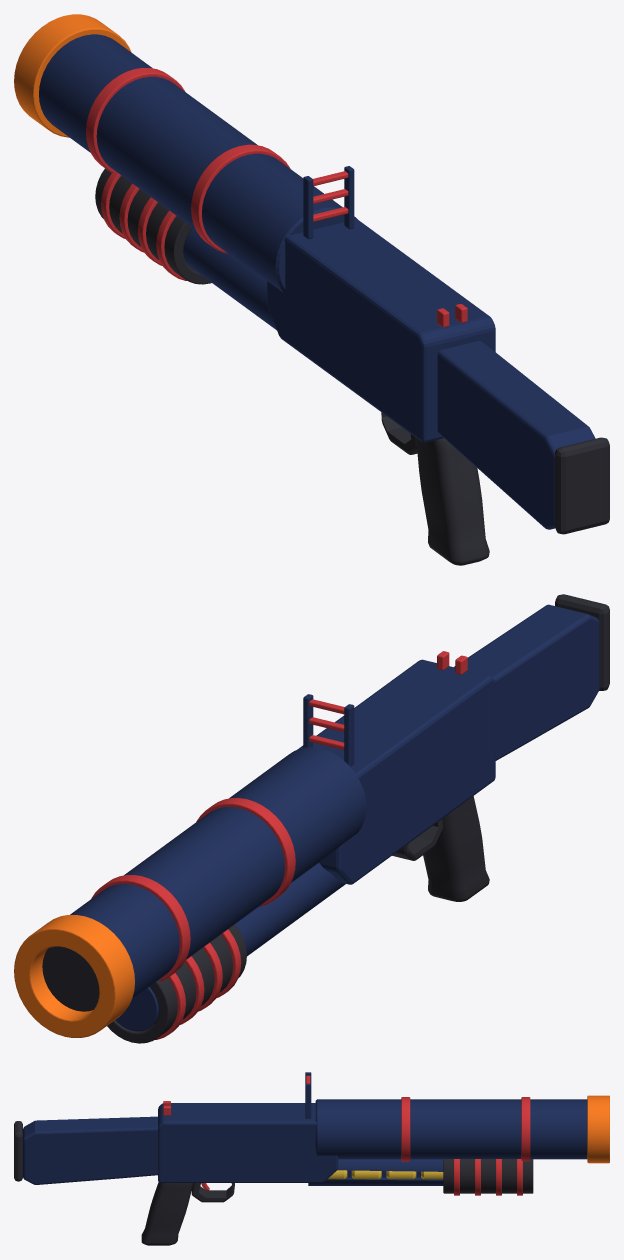
3 renders of one model, top to bottom at view 1: azimuth 30°, elevation 25°; view 2: azimuth 150°, elevation 25°; view 3: azimuth 270°, elevation 25°, orthographic. The views are drawn at different scales.
Parts seen in each view (by area): view 1: body, pump, mag; view 2: body, pump, mag; view 3: body, pump, mag.
Part boxes in pixels (bbox=[...]): body: bbox=[14, 14, 609, 565]; pump: bbox=[95, 168, 211, 284]; mag: bbox=[183, 228, 276, 330]; body: bbox=[14, 594, 609, 1037]; pump: bbox=[107, 924, 246, 1043]; mag: bbox=[115, 863, 345, 1031]; body: bbox=[14, 1072, 609, 1245]; pump: bbox=[443, 1159, 533, 1195]; mag: bbox=[308, 1159, 443, 1185].
Bounding box in the file's own units: 0.09 × 0.24 × 0.794.
